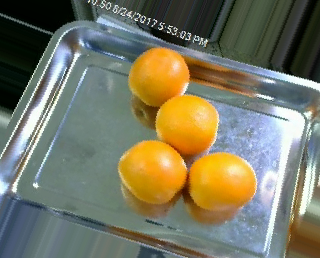Orange: (116, 140, 188, 204), (187, 151, 256, 210), (155, 94, 219, 153), (127, 48, 188, 107)
